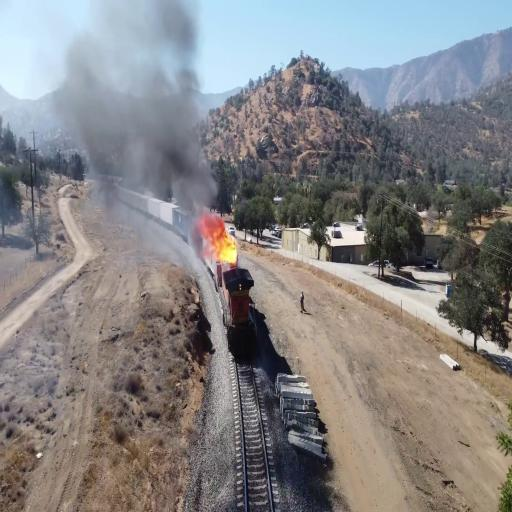fire: (204, 216, 245, 268)
smoke: (124, 88, 202, 190)
